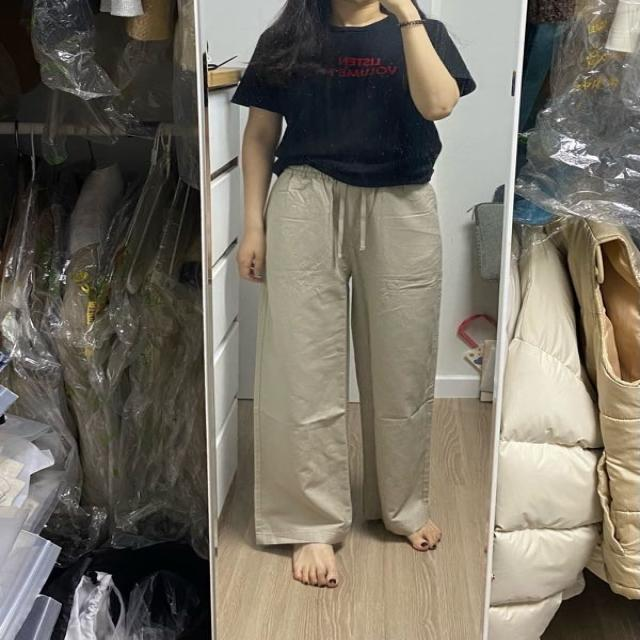cottonpants: (255, 171, 442, 553)
shortsleeve: (237, 16, 481, 192)
